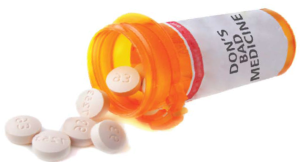pill bottle: (91, 9, 296, 125)
